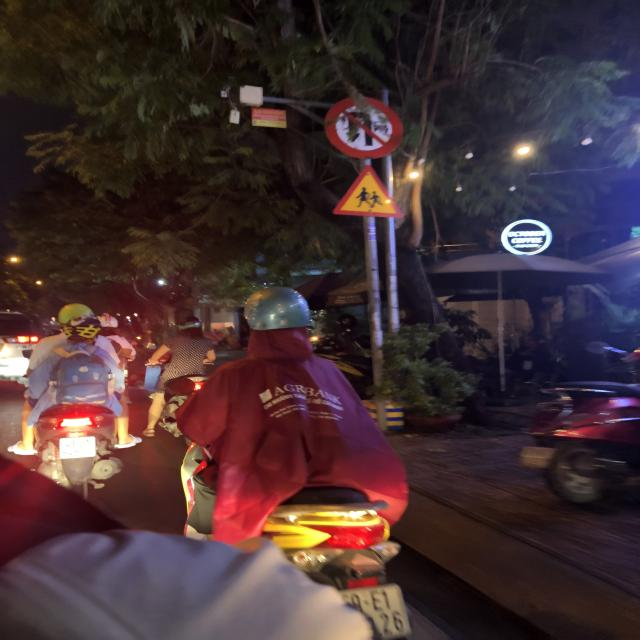Bien bao cam quay dau xe: (324, 96, 404, 159)
Bien bao tre em: (334, 163, 404, 221)
